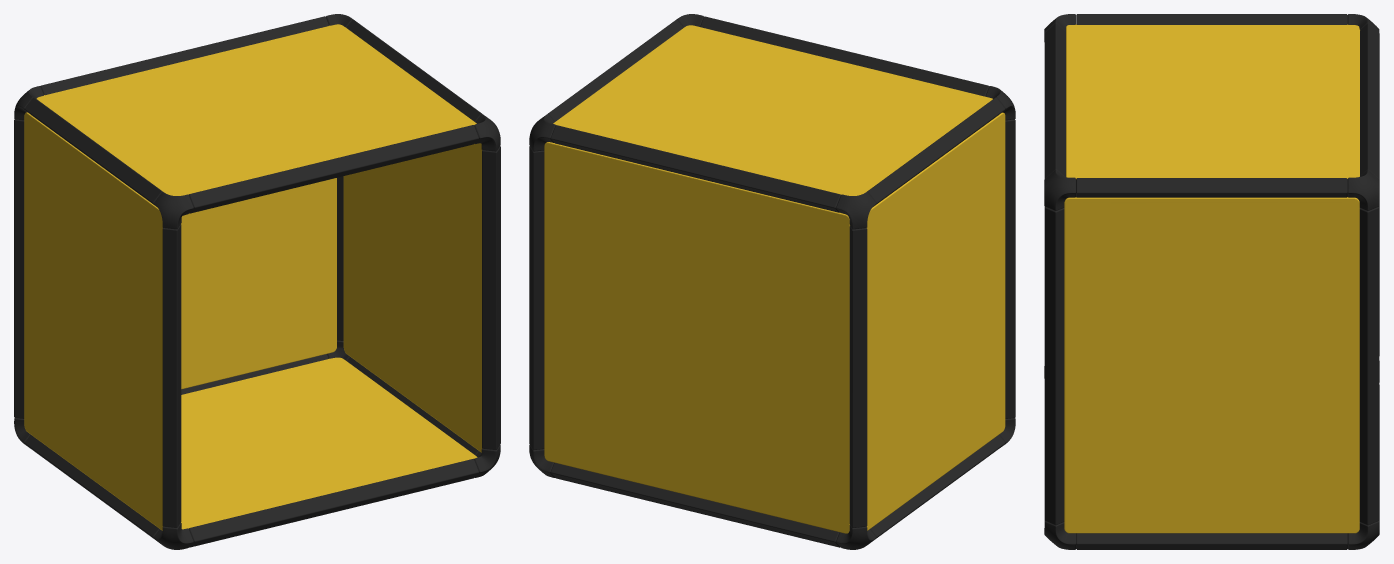
3 views of the same model, side by side, from view 1: azimuth 30°, elevation 25°; view 2: azimuth 150°, elevation 25°; view 3: azimuth 270°, elevation 25° (orthographic). The views are drawn at different scales.
Parts seen in each view (by area): view 1: 420x329x420; view 2: 420x329x420; view 3: 420x329x420.
Part boxes in pixels (left/top/right/bottom): 420x329x420: left=14, top=14, right=500, bottom=549; 420x329x420: left=529, top=14, right=1015, bottom=549; 420x329x420: left=1044, top=14, right=1379, bottom=549.
Bounding box in the file's own units: 0.4977 × 0.4976 × 0.4063.
